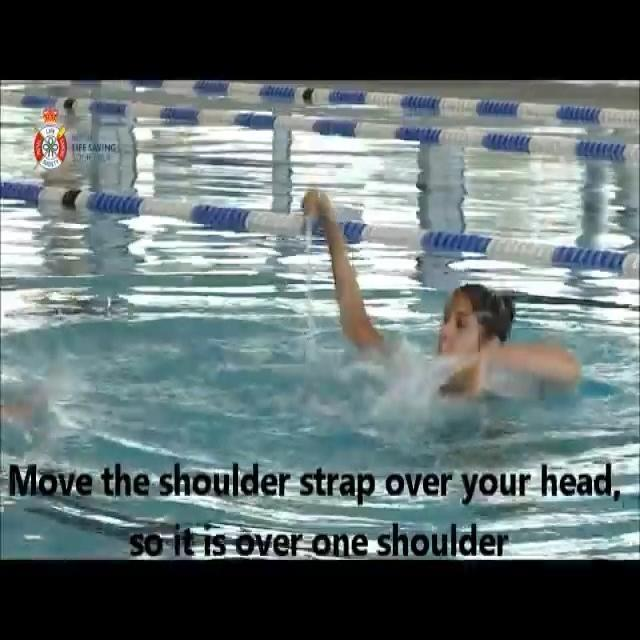Drowning: (300, 194, 576, 402)
